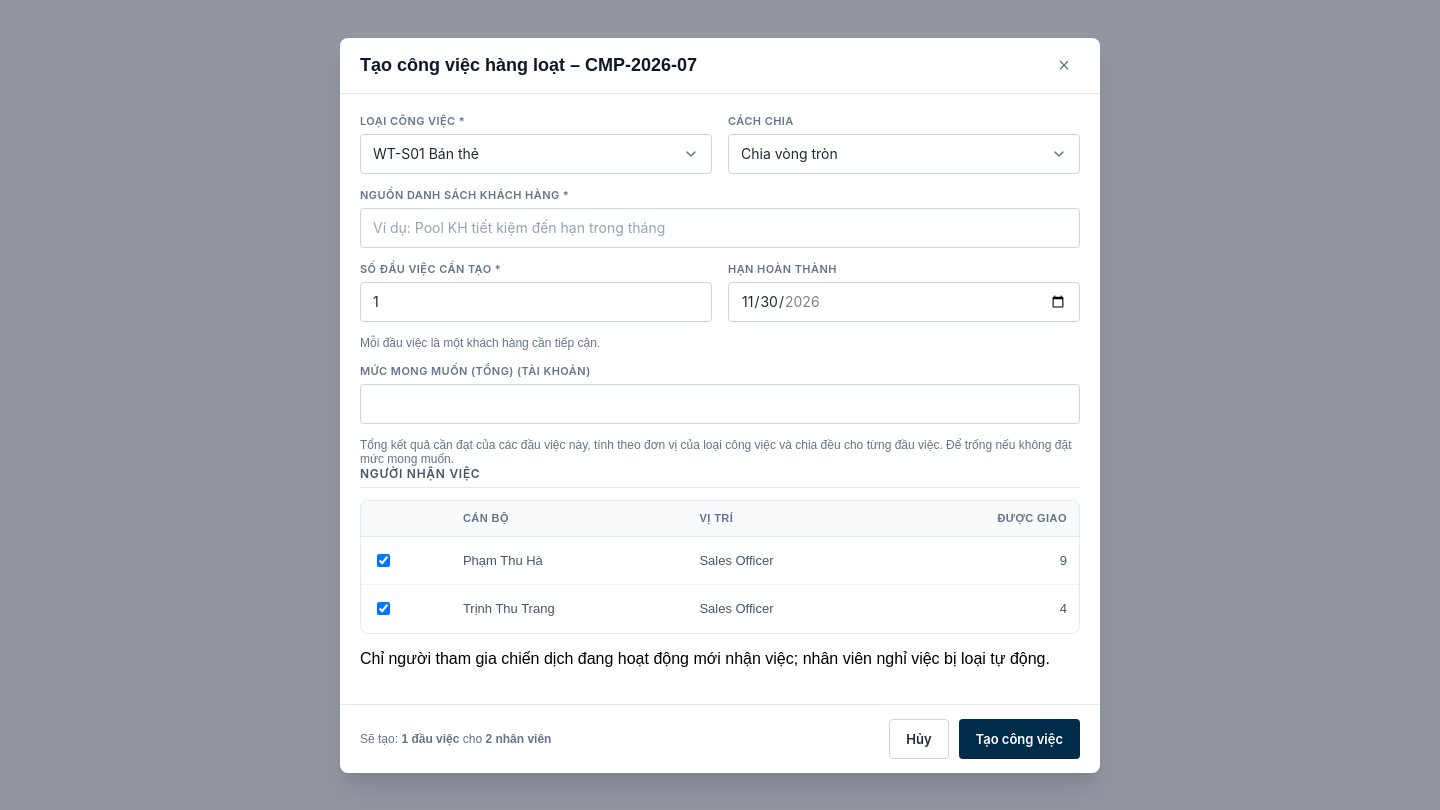
Test: CampaignBatchModalComponent › keeps the footer summary in step with the work count and the selection
Replace the text in the number field with id "batch-total" with "36" at [536, 302], box [360,282,712,322]
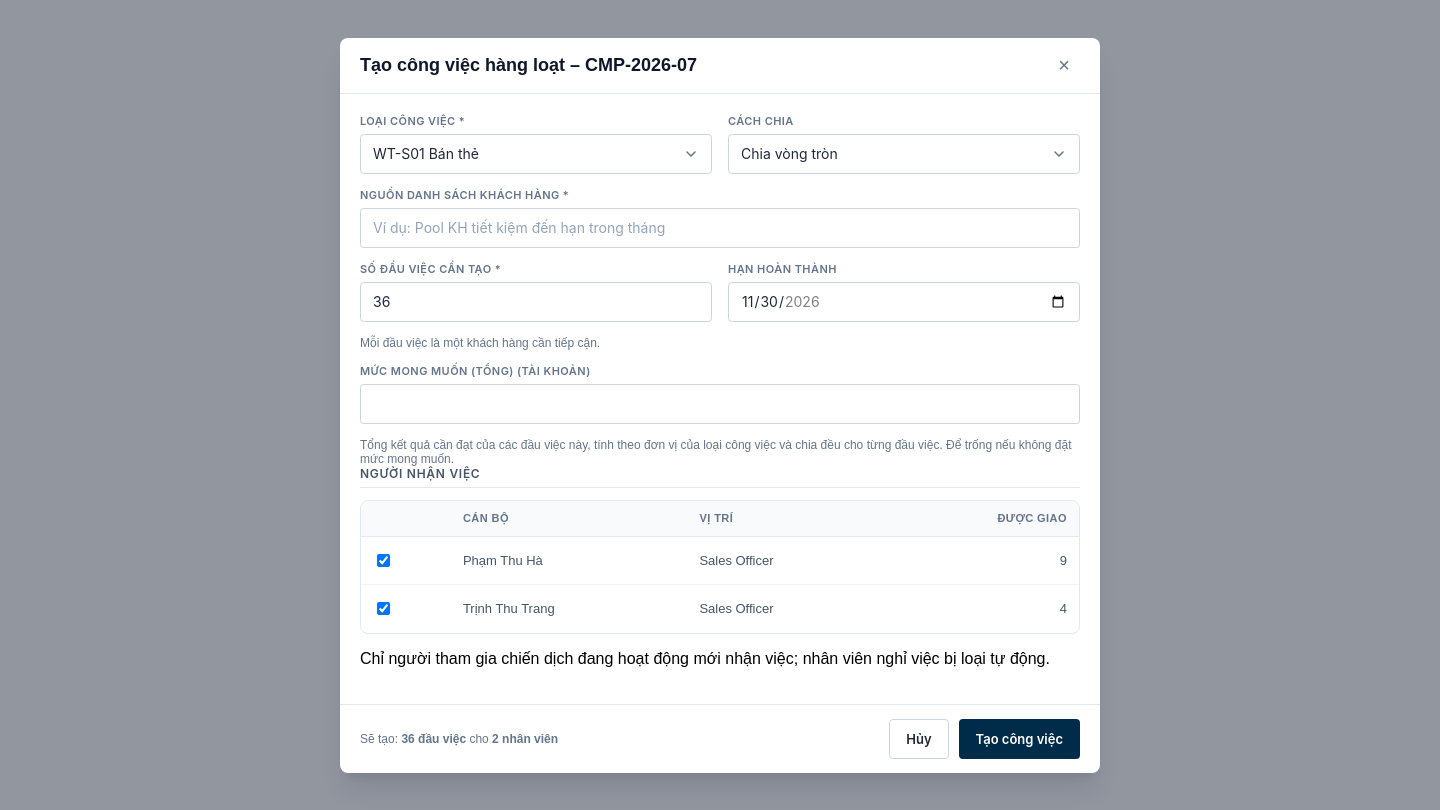
Click the checkbox named "Phạm Thu Hà" at [384, 560], box [377,554,390,567]
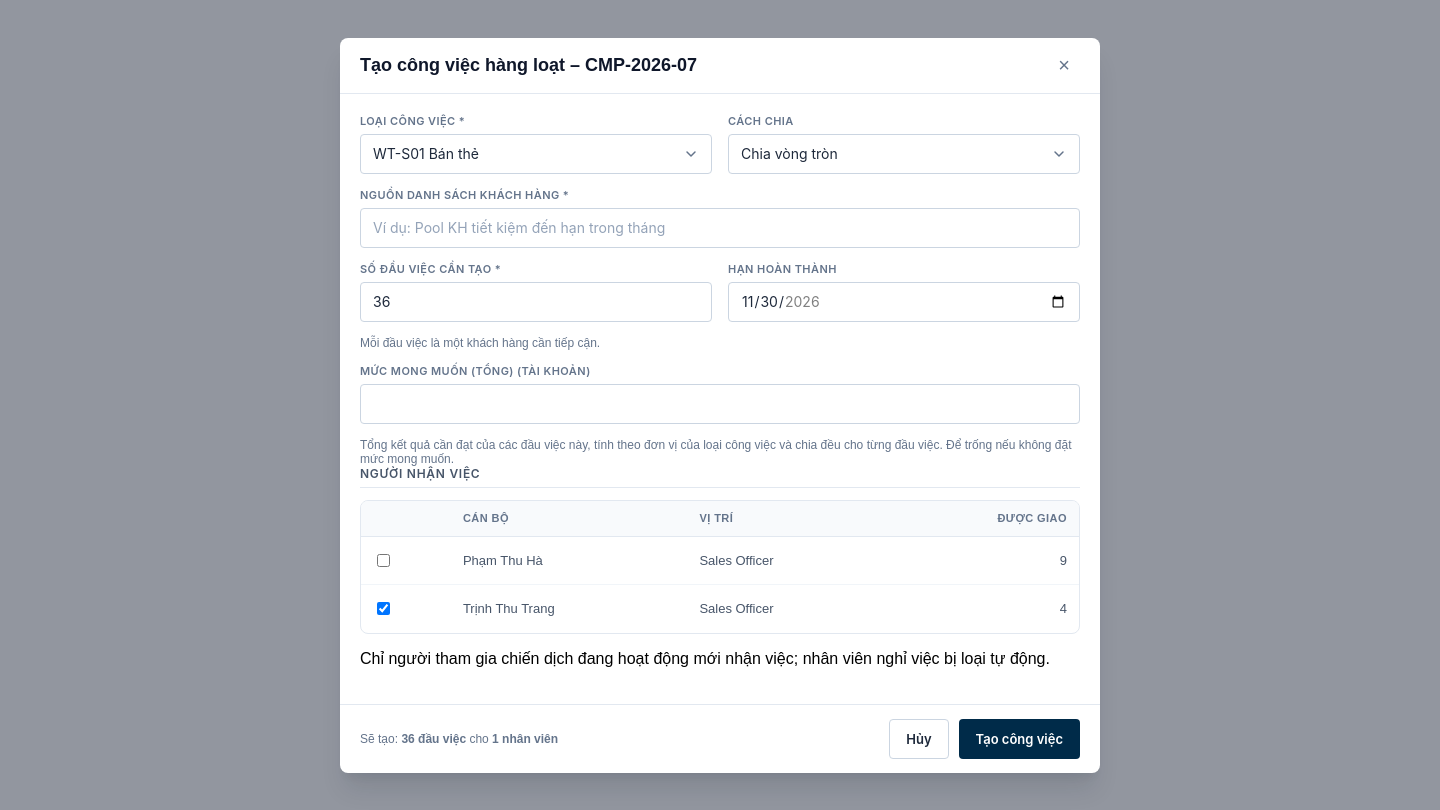
Now the element with class "modal-footer" shows "36 đầu việc", box [401,732,466,746]
Now the element with class "modal-footer" shows "1 nhân viên", box [492,732,558,746]
